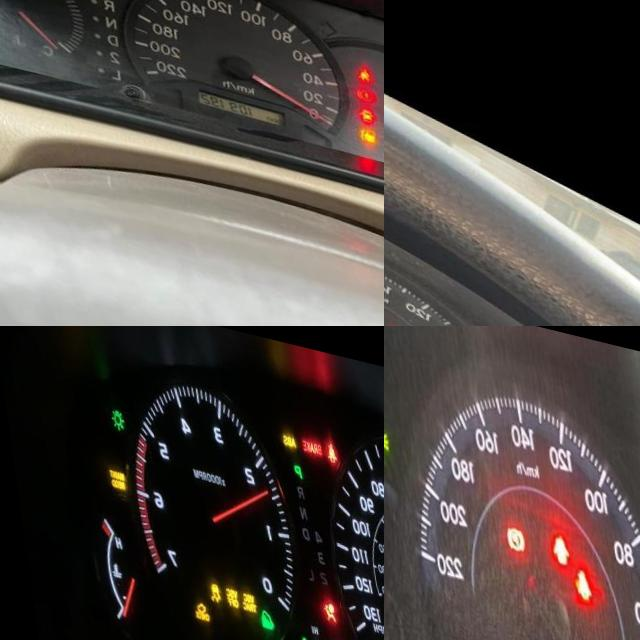Seat Belt: (566, 551, 588, 586), (352, 44, 365, 60)
